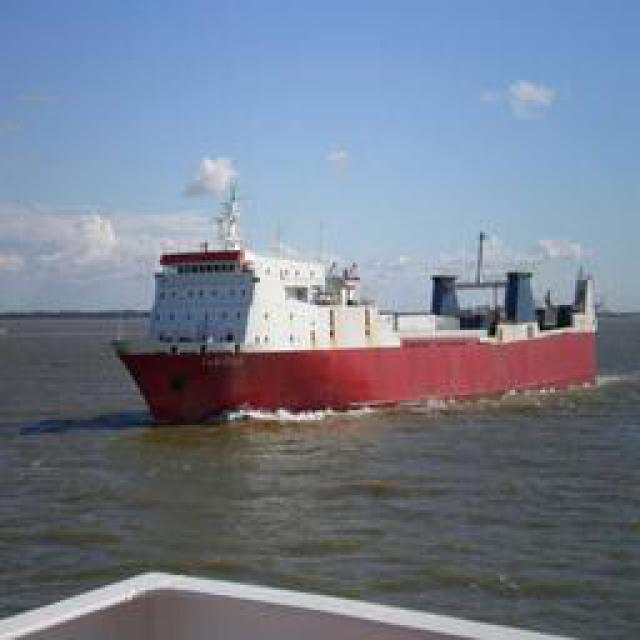Ship: (111, 197, 604, 427)
